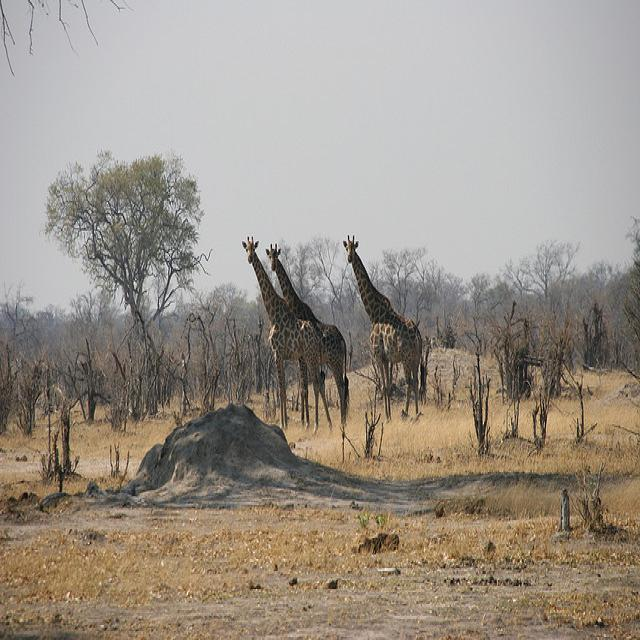giraffe: (241, 232, 337, 442), (267, 241, 350, 432), (341, 234, 423, 420)
